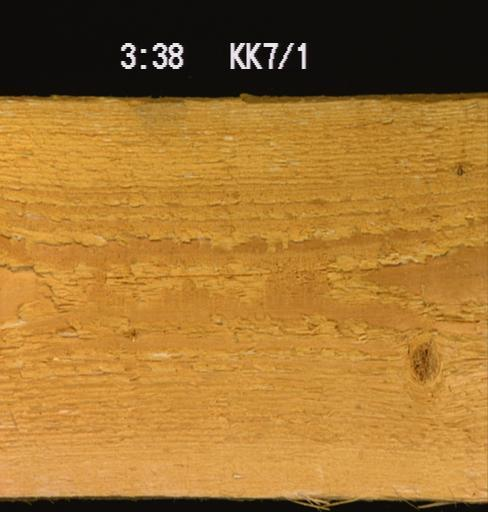small_knot: (122, 321, 140, 343), (455, 159, 463, 177)
sound_knot: (407, 331, 444, 387)
split: (103, 268, 274, 279), (439, 314, 481, 325)
wave: (0, 91, 487, 104)
